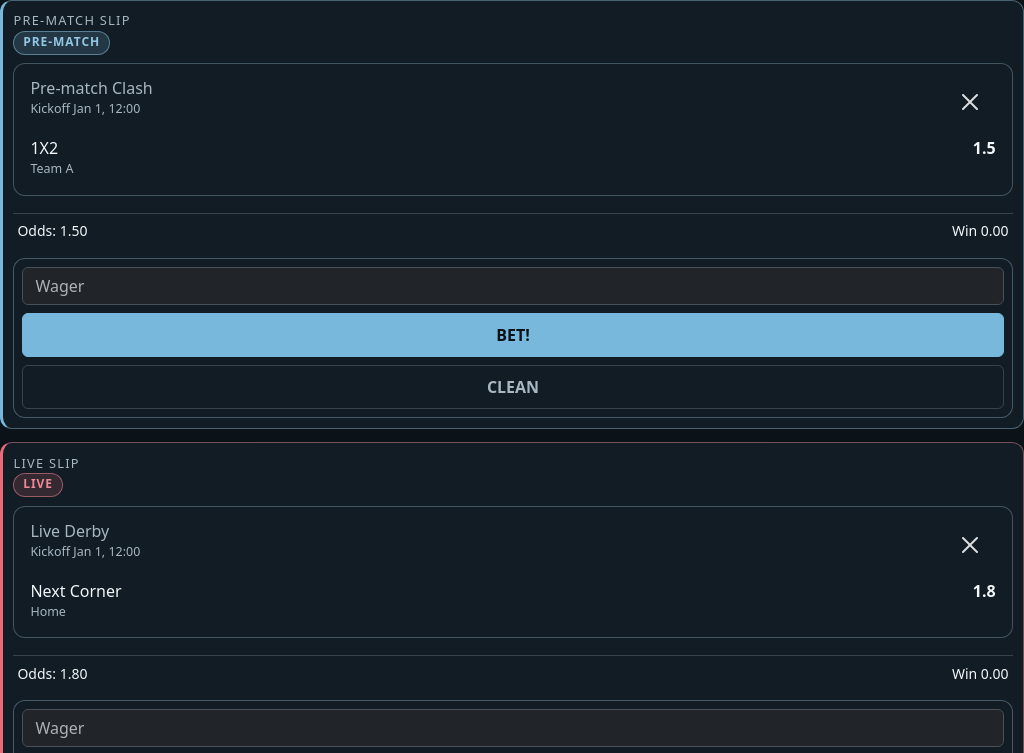
Test case: Slip › retries the same placement attempt id after a retryable 5xx response
In the number field named "Wager for PRE-MATCH SLIP": (513, 286) [22,267,1004,305], type "11"
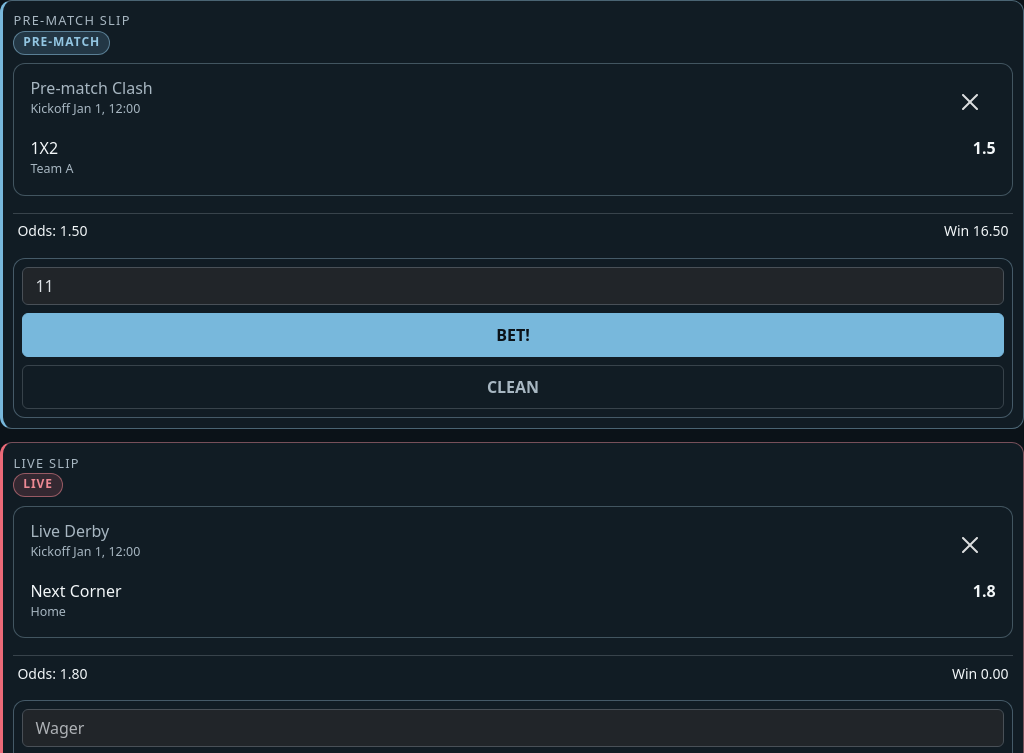
Click the button "BET!" below "1.50": (513, 335) [22,313,1004,357]
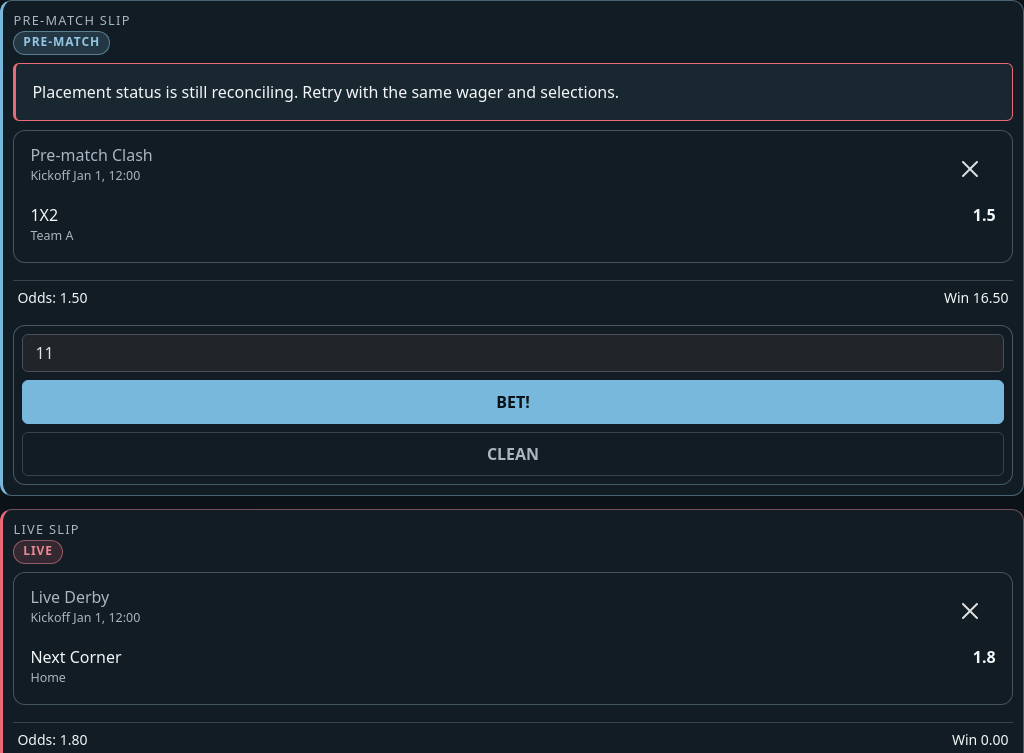
Expected: the text "Placement status is still reconciling. Retry with the same wager and selections." is shown, [13,63,1013,121]
Click the button "BET!": (513, 402) [22,380,1004,424]
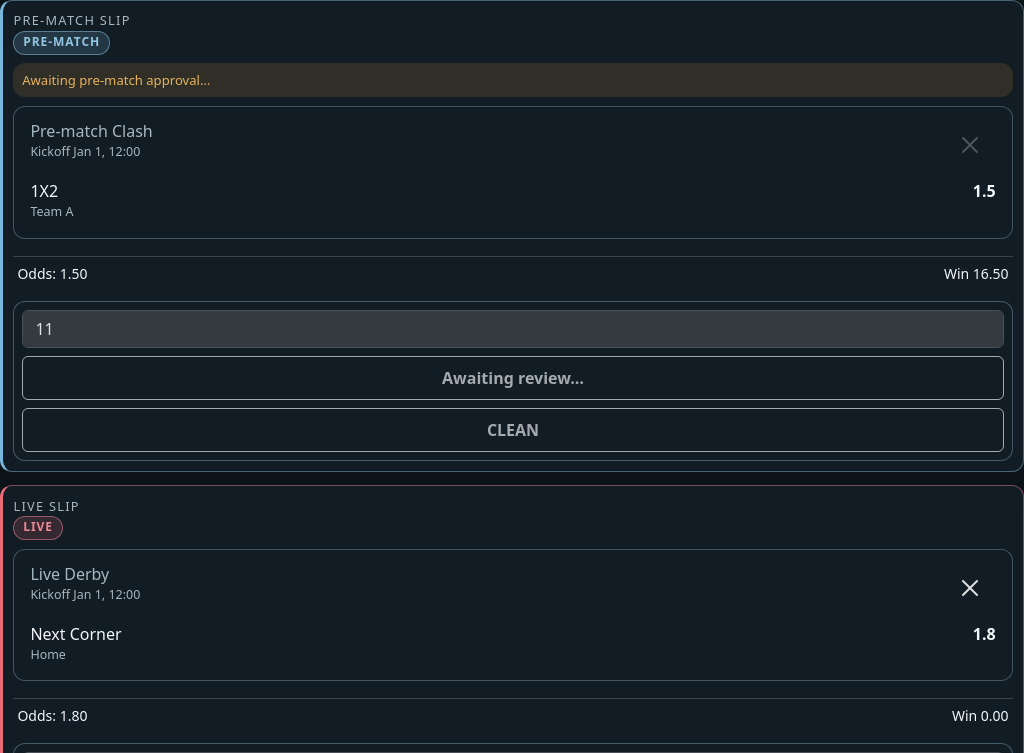
Expected: the button "Awaiting review…" is disabled, [22,356,1004,400]
